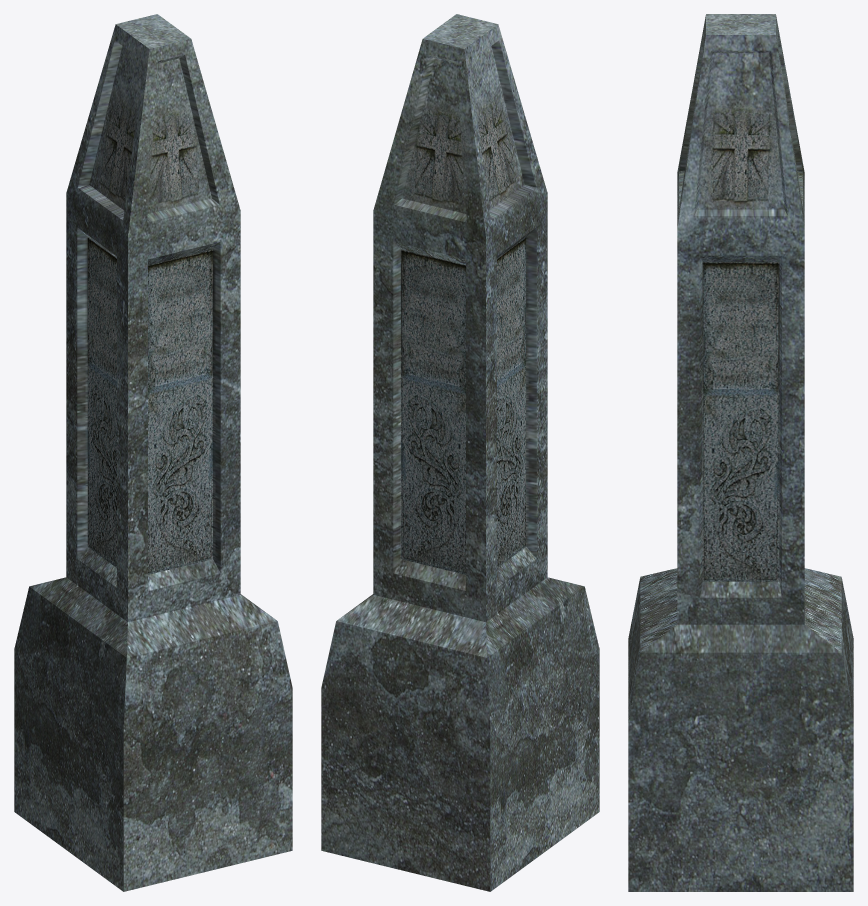
Rendered from Headstone_04.fbx.
3 views of the same model, side by side, from view 1: azimuth 30°, elevation 25°; view 2: azimuth 150°, elevation 25°; view 3: azimuth 270°, elevation 25° (orthographic). The views are drawn at different scales.
Parts seen in each view (by area): view 1: headstone4; view 2: headstone4; view 3: headstone4.
Part boxes in pixels (<box>): headstone4: <box>14,14,292,891</box>; headstone4: <box>321,14,599,891</box>; headstone4: <box>628,14,853,891</box>.
Size of the model in its own units: 0.5445 by 2.46 by 0.6099.
